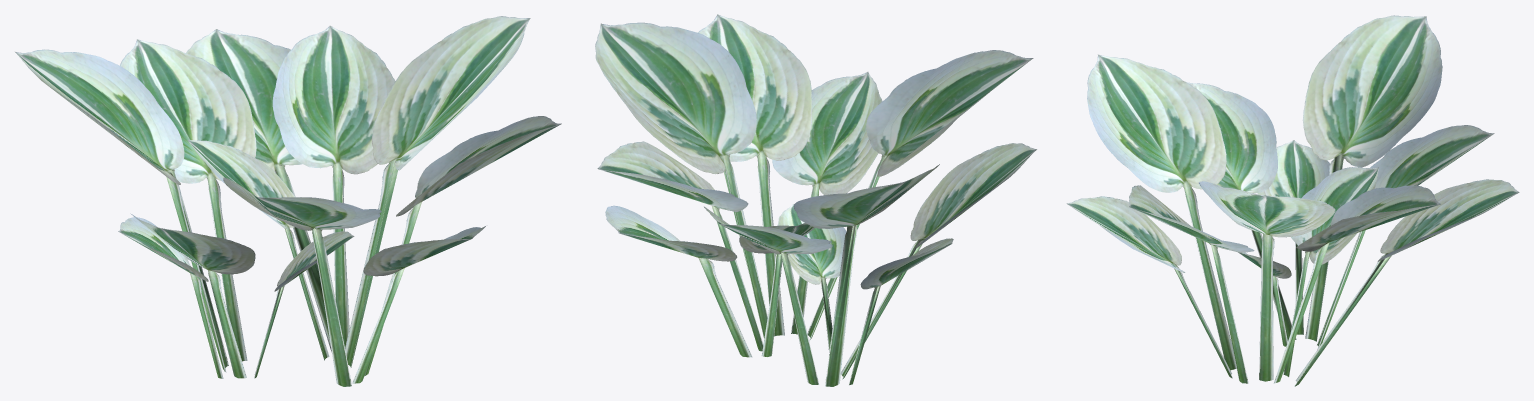
Rendered from plant_small_wg_01W.fbx.
The picture shows the model from 3 angles, left to right: view 1: azimuth 30°, elevation 25°; view 2: azimuth 150°, elevation 25°; view 3: azimuth 270°, elevation 25°; orthographic projection. The views are drawn at different scales.
Visible parts, largest first — view 1: plant_small_wg_01W; view 2: plant_small_wg_01W; view 3: plant_small_wg_01W.
Boxes of the visible parts, <box> form: plant_small_wg_01W: <box>15,16,561,386</box>; plant_small_wg_01W: <box>595,14,1036,386</box>; plant_small_wg_01W: <box>1066,15,1519,386</box>.
Bounding box in the file's own units: 85.15 × 57.47 × 89.92.
